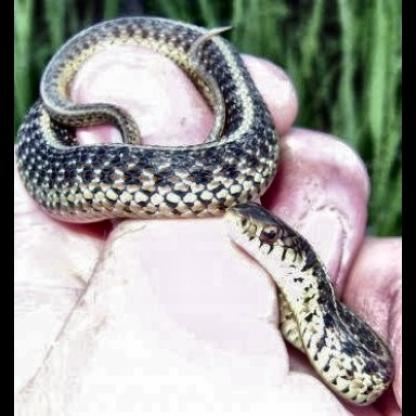Snake: (22, 16, 398, 402)
